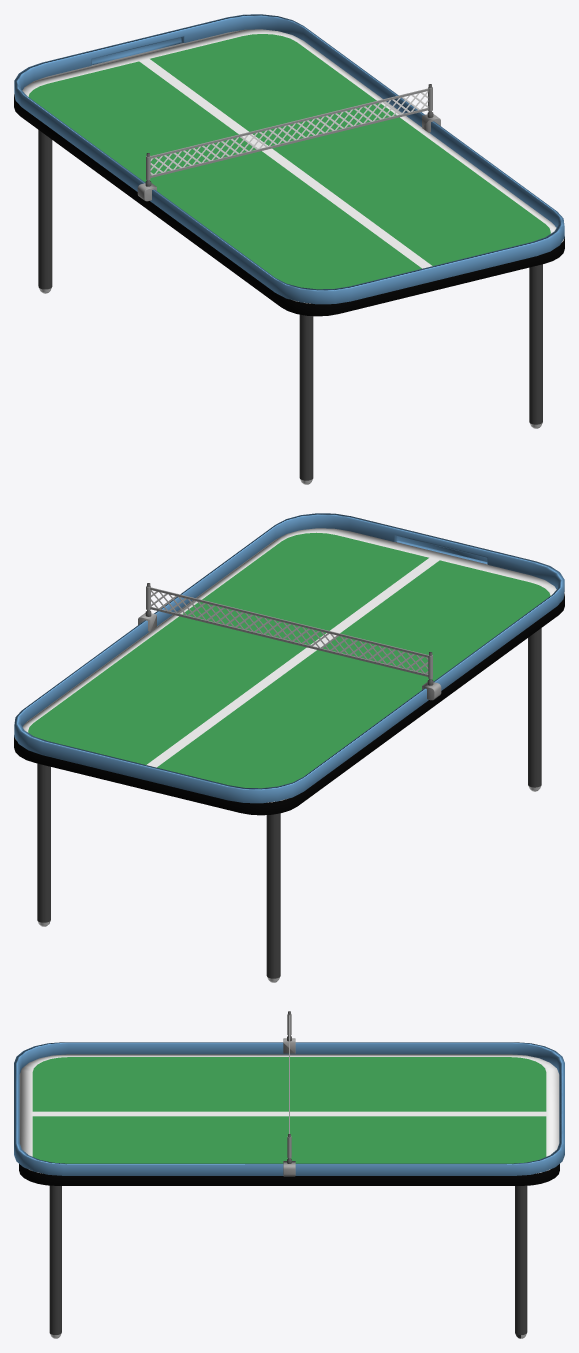
The model's file is masatenisi.fbx.
The picture shows the model from 3 angles, top to bottom: view 1: azimuth 30°, elevation 25°; view 2: azimuth 150°, elevation 25°; view 3: azimuth 270°, elevation 25°; orthographic projection. The views are drawn at different scales.
Parts seen in each view (by area): view 1: Cylinder.002; view 2: Cylinder.002; view 3: Cylinder.002.
Part boxes in pixels (x1=…): Cylinder.002: x1=14, y1=14, x2=564, y2=484; Cylinder.002: x1=14, y1=513, x2=564, y2=982; Cylinder.002: x1=14, y1=1011, x2=564, y2=1338.
Size of the model in its own units: 4990 by 3855 by 9003.
